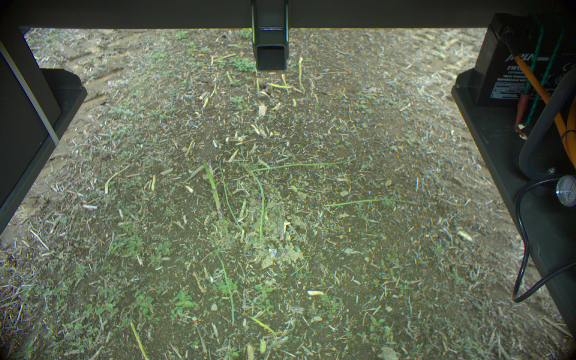aspa: (201, 160, 224, 223), (128, 318, 149, 360), (295, 54, 305, 89)
